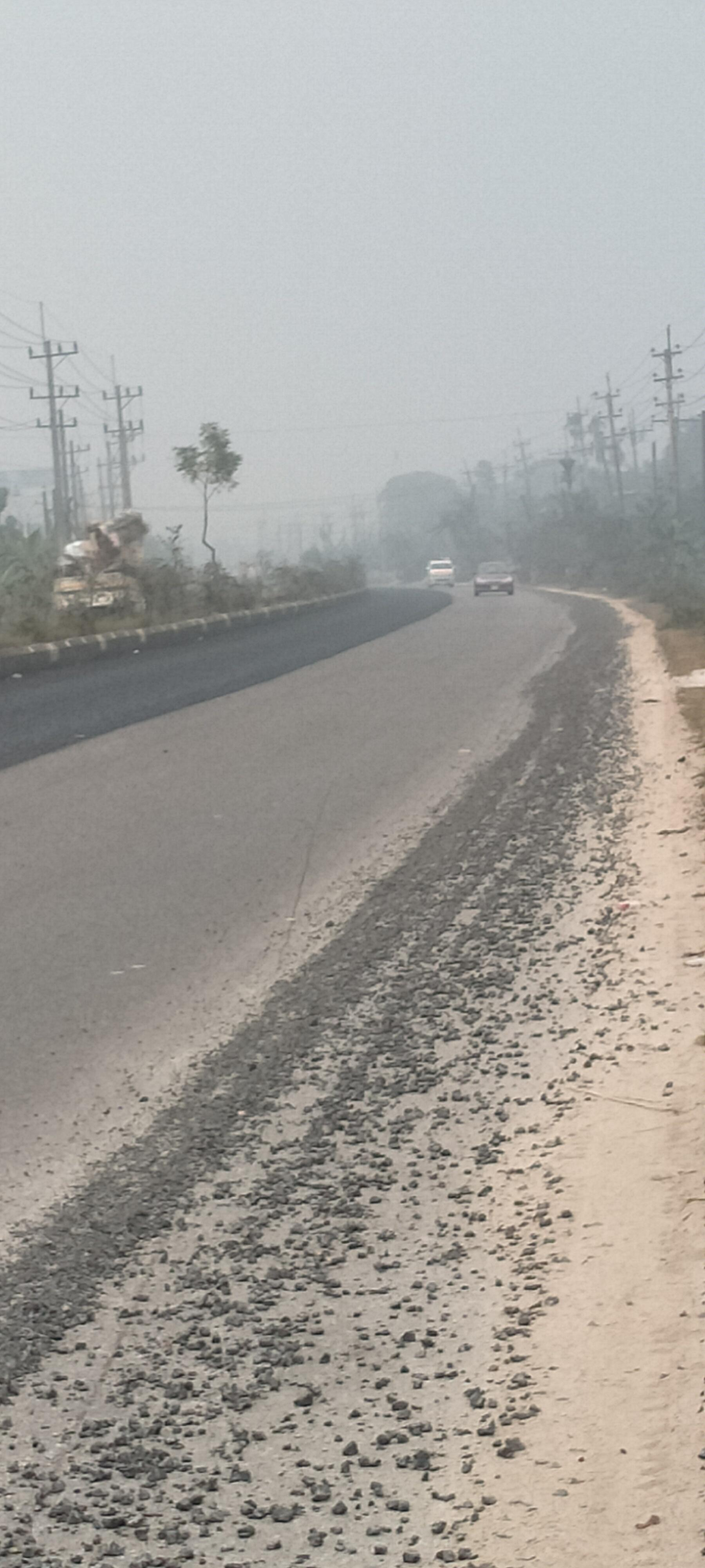Car: (468, 547, 521, 606), (418, 550, 462, 588)
